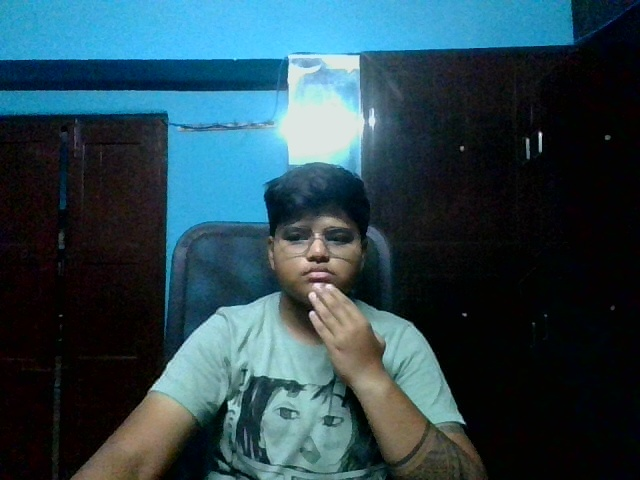THANKS: (249, 159, 388, 395)
